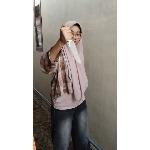Pisau: (60, 25, 84, 64)
